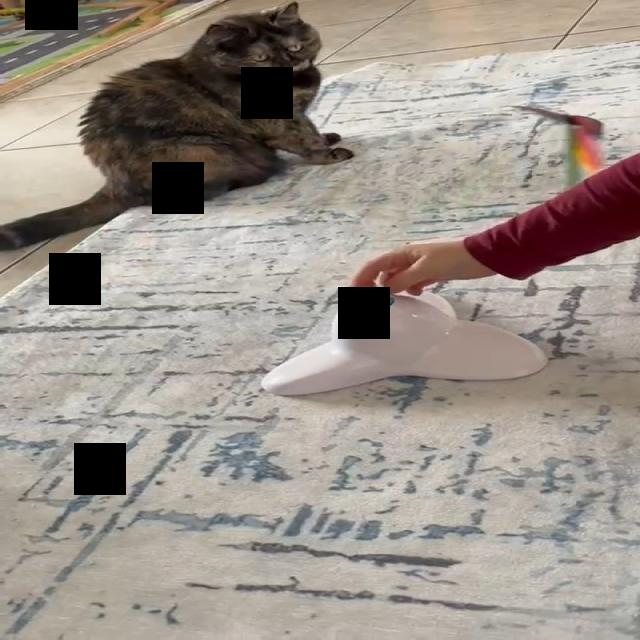authorized: (0, 0, 353, 251)
